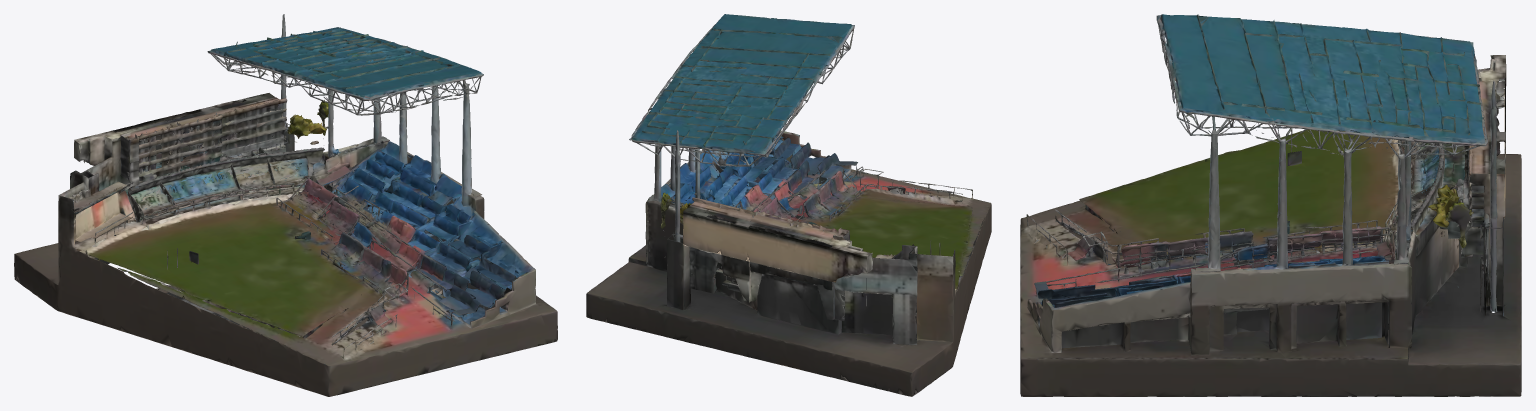
File: aswan-stadium-3.glb
The picture shows the model from 3 angles, left to right: view 1: azimuth 30°, elevation 25°; view 2: azimuth 150°, elevation 25°; view 3: azimuth 270°, elevation 25°; orthographic projection. The views are drawn at different scales.
Size of the model in its own units: 0.9987 by 0.6617 by 1.
1 material, 1 textured.
